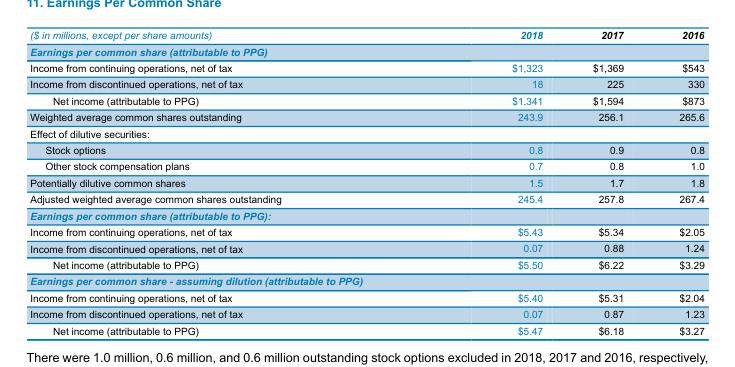table: (29, 28, 703, 335)
table column: (29, 28, 396, 335), (396, 28, 567, 335), (567, 28, 650, 335), (650, 28, 703, 335)
table column header: (29, 28, 703, 42)
table projected row header: (29, 42, 703, 59), (29, 124, 703, 141), (29, 206, 703, 223), (29, 272, 703, 289)
table row: (29, 42, 703, 59), (29, 75, 703, 92), (29, 124, 703, 141), (29, 157, 703, 174), (29, 206, 703, 223), (29, 239, 703, 256), (29, 272, 703, 289), (29, 59, 703, 75), (29, 92, 703, 108), (29, 108, 703, 124), (29, 141, 703, 157), (29, 174, 703, 190), (29, 190, 703, 206), (29, 223, 703, 239), (29, 256, 703, 272), (29, 289, 703, 305), (29, 305, 703, 321), (29, 28, 703, 42), (29, 321, 703, 335)
